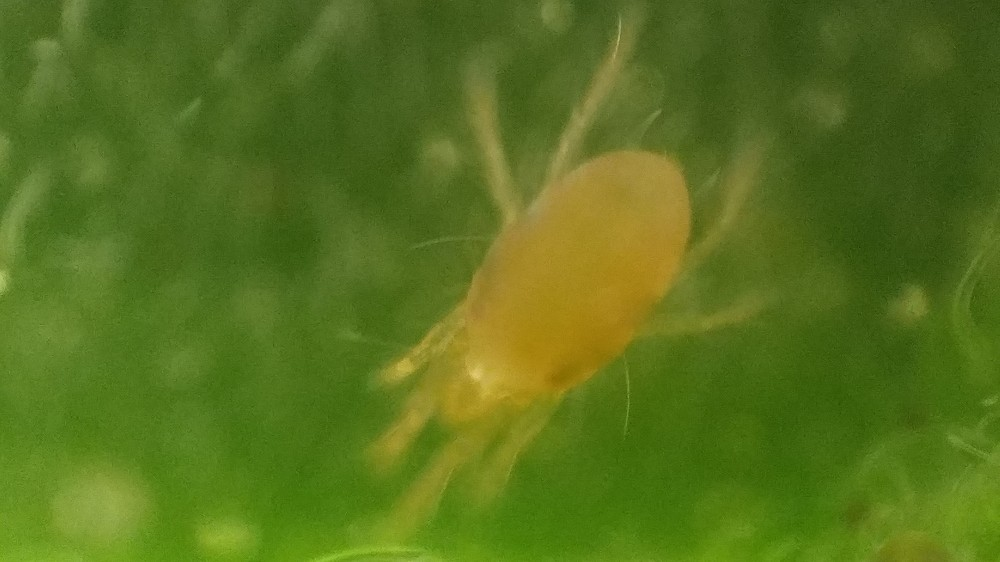Aracnido Rojo: (343, 29, 828, 529)
